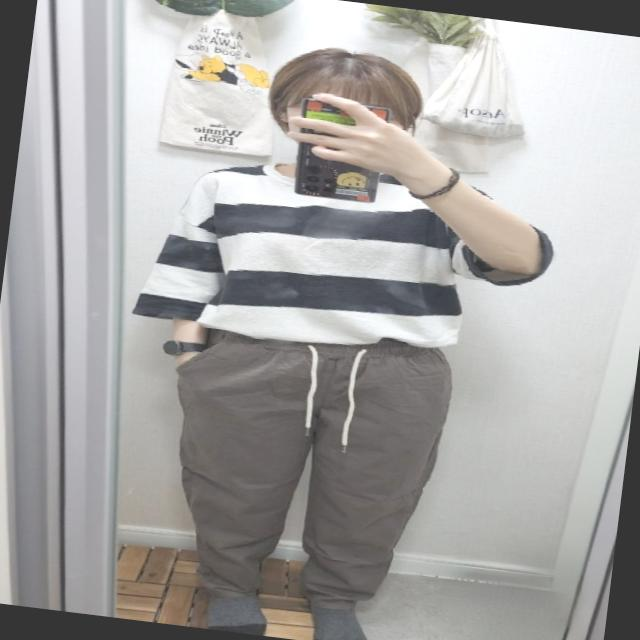cottonpants: (147, 312, 456, 616)
shortsleeve: (137, 136, 566, 372)
